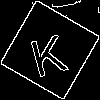K: (25, 25, 70, 78)
